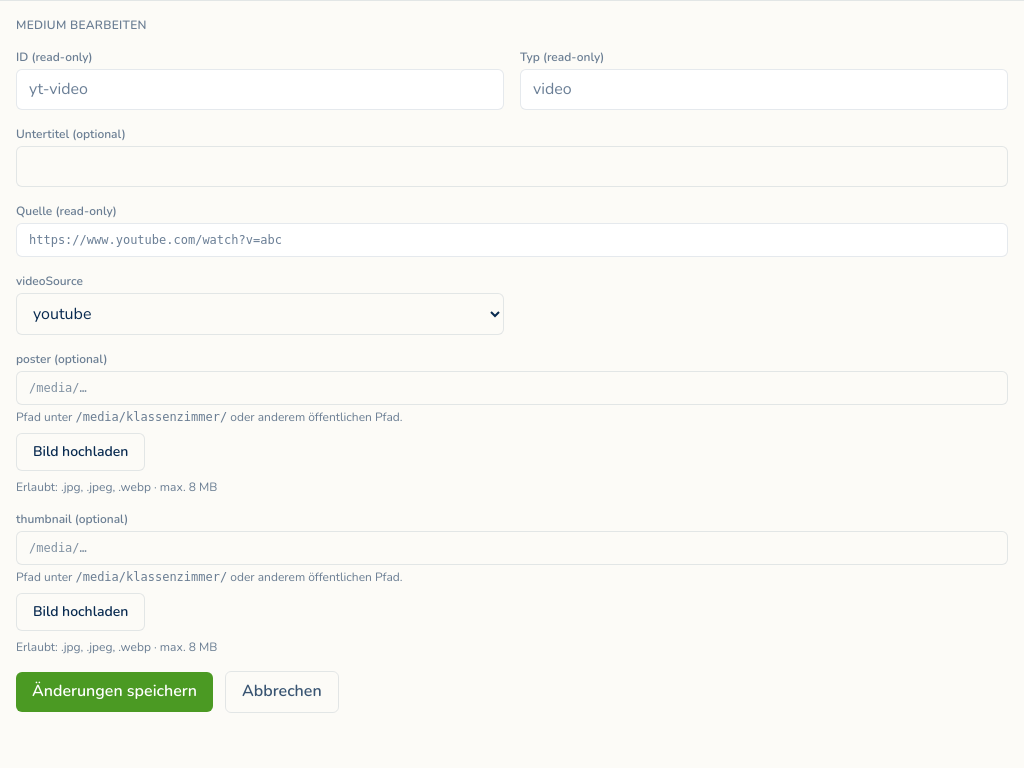
Scenario: StationMediumEditForm — Datei ersetzen › Video youtube persistiert, Dropdown upload: Hinweis, kein Replace
Select "upload" in the dropdown labelled "videoSource": (260, 314) [16,293,504,335]
(page scrolled)
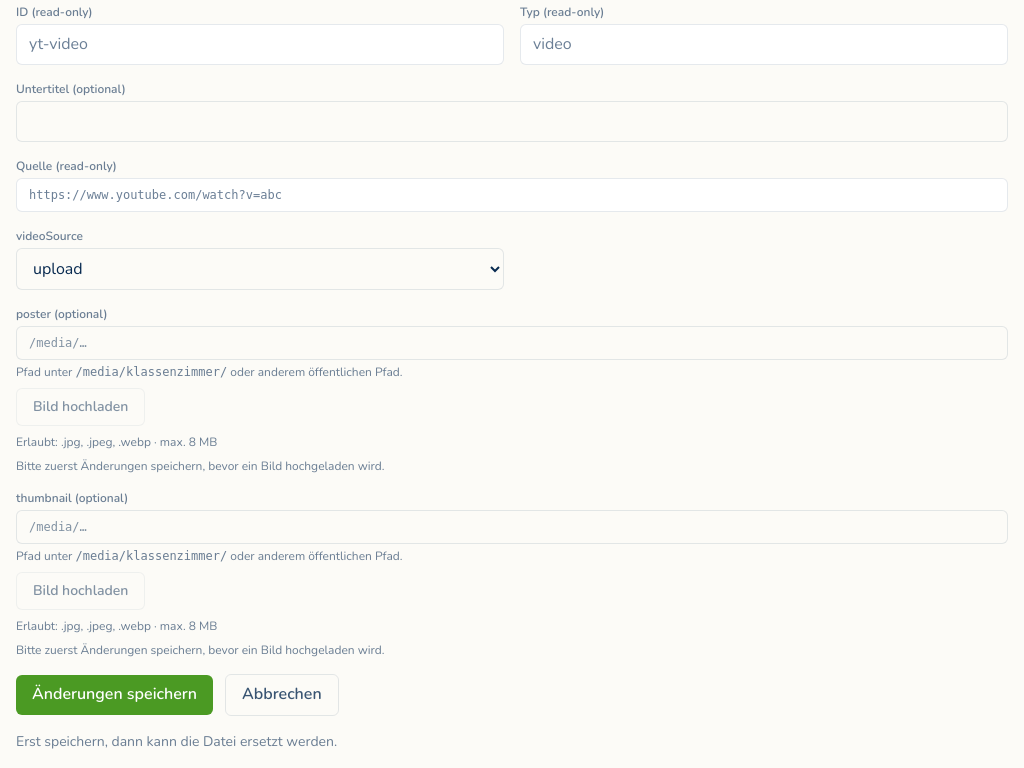
Now the text "Erst speichern, dann kann die Datei ersetzt werden." is shown, box [16,732,337,751]
